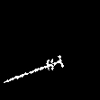treble_crochet: (4, 56, 63, 82)
